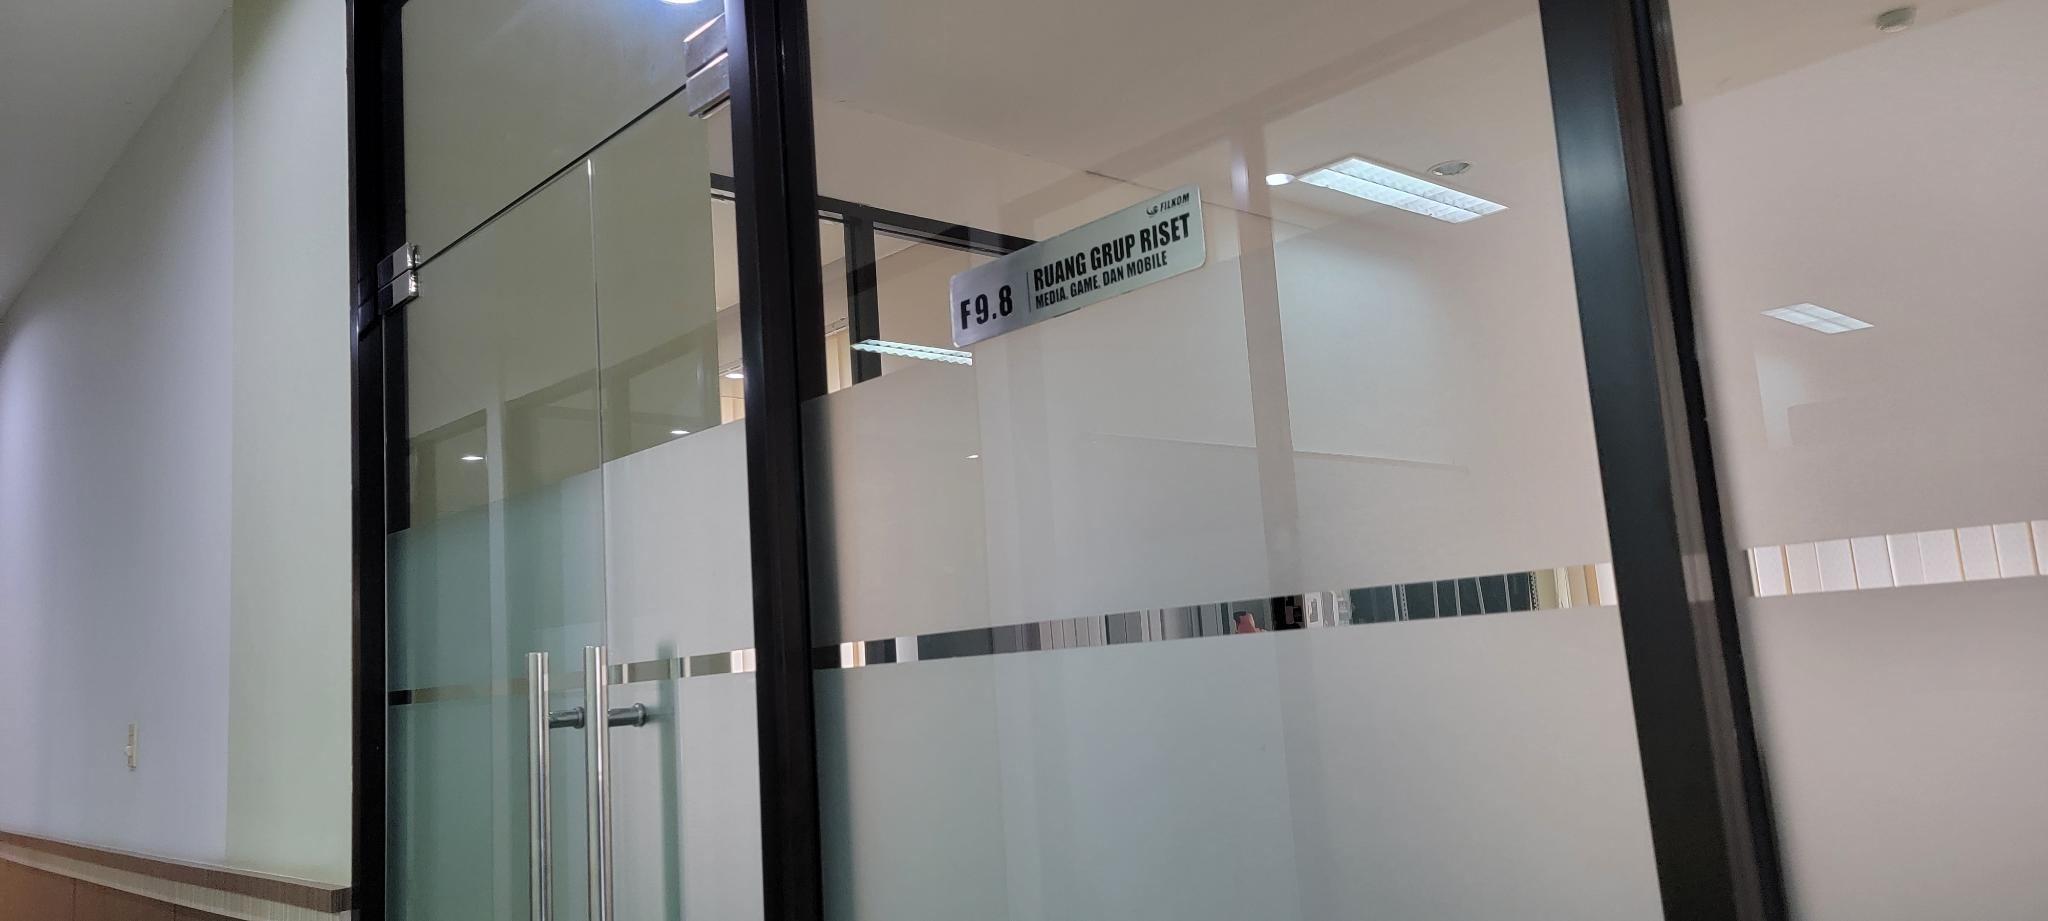plate: (948, 183, 1209, 347)
